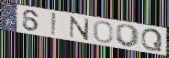6: (22, 9, 40, 32)
I: (51, 12, 58, 37)
N: (69, 15, 91, 42)
O: (115, 23, 142, 49), (93, 20, 115, 44)
Q: (140, 28, 163, 52)
